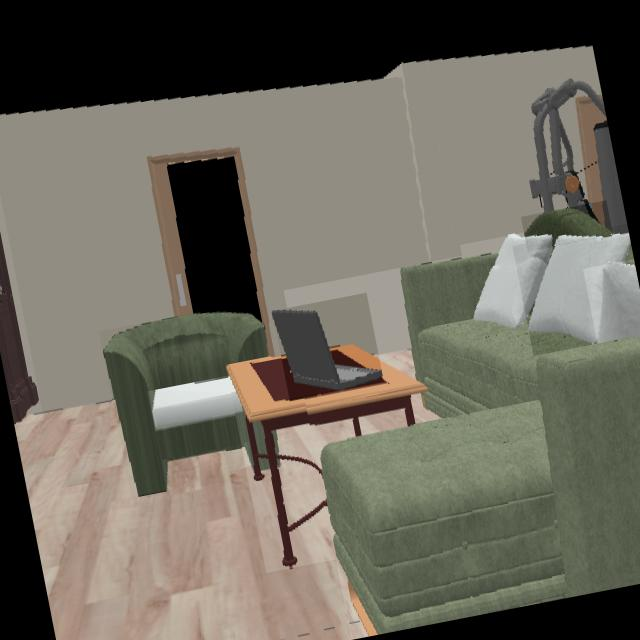bookshelf: (0, 232, 39, 426), (0, 235, 39, 426)
laptop: (272, 311, 383, 392)
pillow: (529, 233, 631, 343), (475, 236, 555, 330), (152, 378, 243, 431), (597, 264, 640, 342)
sofa: (319, 253, 640, 637), (103, 314, 269, 498), (526, 210, 612, 246)
table: (228, 345, 429, 568)
